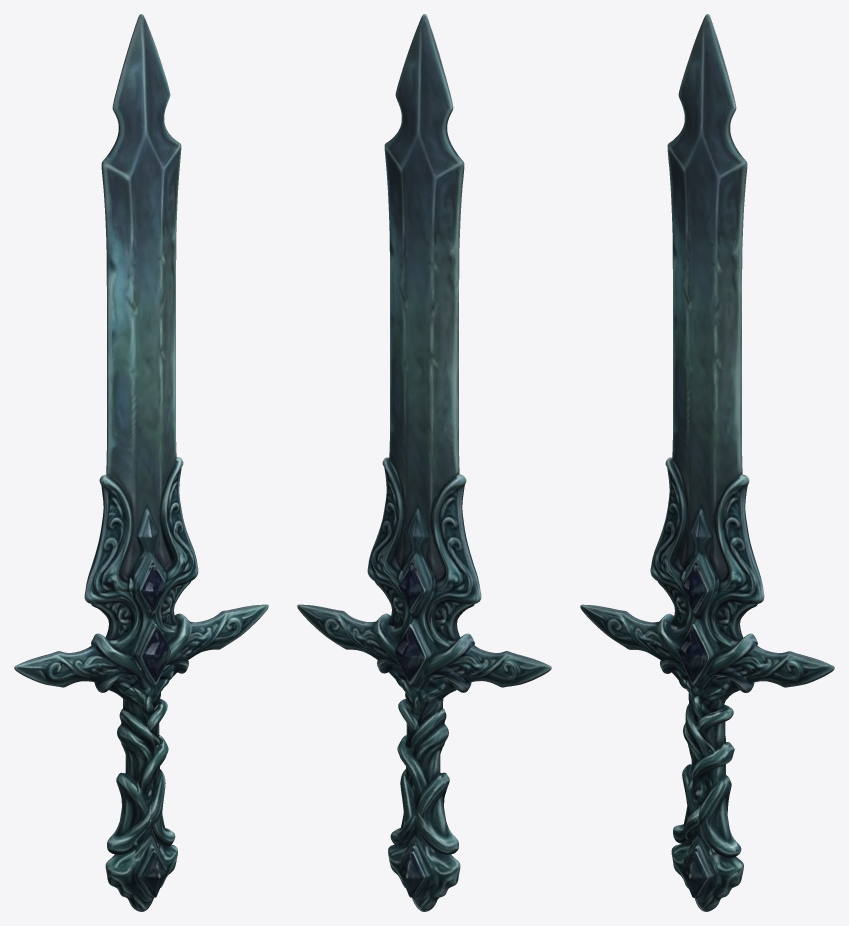
File: Meshy_AI_Emerald_Runeblade_0925095555_texture.fbx
The picture shows the model from 3 angles, left to right: view 1: azimuth 30°, elevation 25°; view 2: azimuth 150°, elevation 25°; view 3: azimuth 330°, elevation 25°; orthographic projection.
Visible parts, largest first — view 1: Mesh_0; view 2: Mesh_0; view 3: Mesh_0.
Part boxes in pixels (x1,y1,x2,y2): Mesh_0: [14, 14, 268, 911]; Mesh_0: [297, 14, 551, 911]; Mesh_0: [580, 14, 834, 911].
Bounding box in the file's own units: 56.37 × 190 × 14.23.
Materials: 1 (1 with a texture image).
